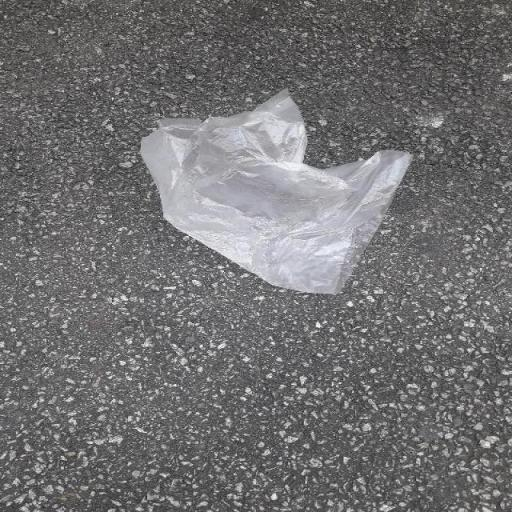plastic-bag: (135, 85, 418, 297)
